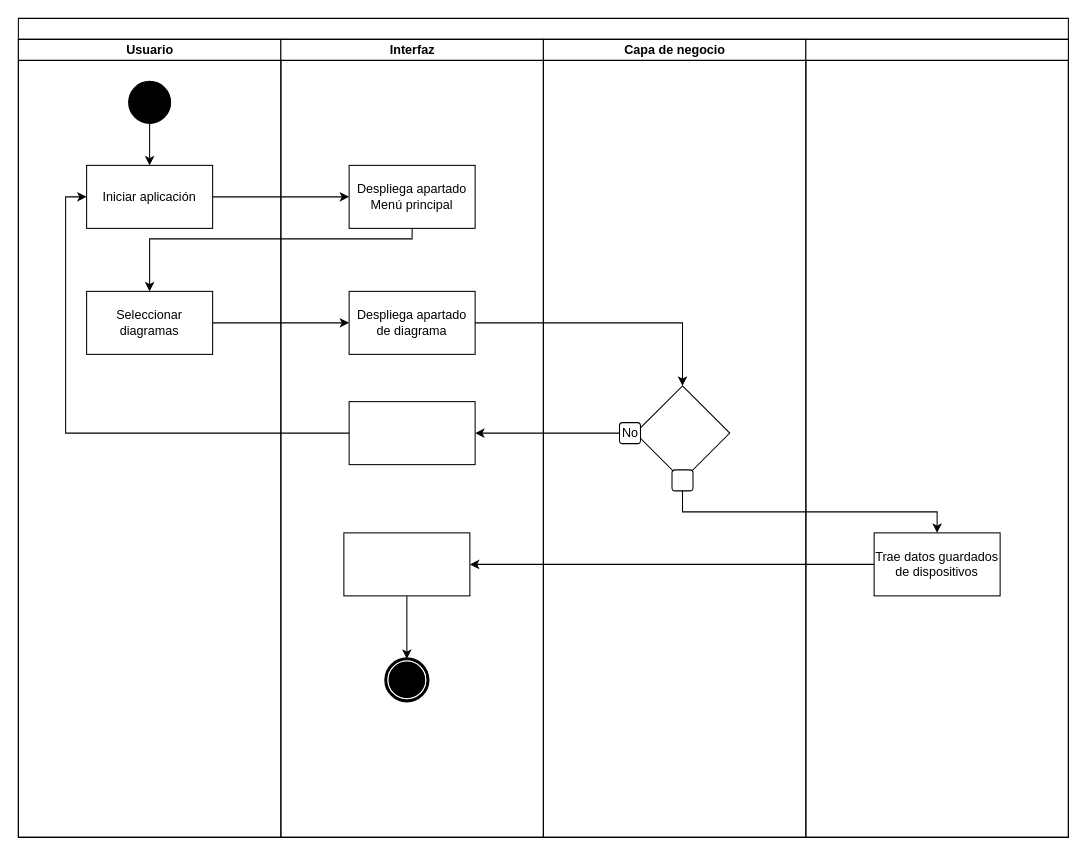
Some shapes in this 1087 by 856 pixel diagram are drawn without their labels. The box of each missing label's shape, as (x1, y1, x2, y2) in pixels:
Base de datos: (805, 38, 1068, 837)
Notifica diagramas inexistentes: (348, 401, 475, 465)
Si: (671, 469, 693, 491)
Sistema muestra estado del clima: (343, 532, 470, 596)
¿Existen dispositivos?: (634, 385, 730, 480)
